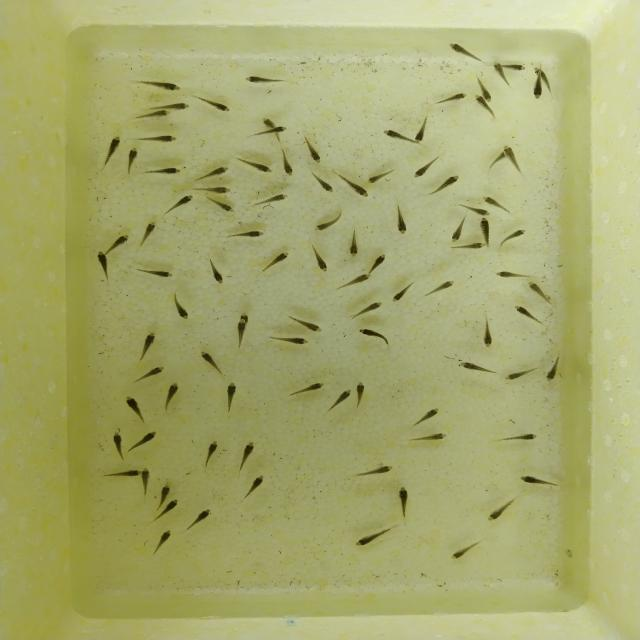fingerling: (178, 506, 212, 535), (483, 498, 513, 525), (126, 431, 161, 454), (248, 190, 287, 210), (386, 279, 416, 304), (392, 204, 414, 238), (340, 175, 371, 199), (351, 529, 388, 549), (205, 253, 227, 286), (162, 195, 196, 216), (446, 541, 478, 563), (496, 428, 540, 444), (329, 387, 355, 414), (198, 350, 222, 378), (395, 484, 416, 516), (411, 157, 440, 180), (308, 212, 338, 234), (123, 398, 148, 424), (425, 276, 461, 294), (237, 158, 275, 175), (446, 39, 478, 59), (238, 441, 260, 470), (520, 473, 559, 489), (363, 253, 390, 276), (310, 243, 330, 274), (523, 281, 551, 303), (134, 364, 168, 382), (352, 300, 384, 319), (341, 271, 373, 290), (170, 294, 190, 324), (242, 475, 265, 501), (94, 250, 113, 281), (136, 133, 181, 146), (131, 266, 176, 279), (544, 355, 564, 384), (504, 140, 524, 169), (196, 97, 230, 114), (358, 328, 392, 345), (434, 172, 464, 191), (193, 166, 228, 182), (263, 250, 292, 269), (153, 530, 174, 556), (163, 384, 180, 416), (236, 318, 254, 348), (103, 134, 122, 162), (158, 497, 182, 519), (456, 359, 489, 375), (107, 233, 131, 255), (512, 303, 539, 322), (478, 216, 495, 246), (414, 407, 442, 425), (102, 468, 144, 480), (410, 431, 447, 444), (304, 143, 324, 167), (224, 228, 264, 240), (246, 74, 285, 86), (146, 165, 182, 178), (432, 91, 465, 105), (447, 219, 468, 241), (138, 80, 184, 90), (140, 221, 158, 246), (202, 442, 220, 467), (380, 127, 410, 142), (140, 330, 156, 358), (263, 117, 279, 145), (412, 118, 428, 146), (504, 227, 532, 243), (268, 336, 312, 346), (188, 184, 232, 194), (205, 198, 234, 213), (480, 194, 513, 207), (354, 379, 367, 412), (290, 320, 320, 334), (110, 428, 124, 458), (297, 381, 326, 395), (347, 233, 361, 262), (501, 369, 534, 381), (481, 320, 495, 348), (462, 204, 490, 218), (221, 381, 236, 407), (363, 464, 399, 474), (131, 109, 171, 118), (534, 67, 553, 85), (126, 146, 137, 177), (492, 269, 529, 278), (316, 178, 335, 195), (257, 126, 290, 135), (280, 158, 294, 179), (368, 173, 388, 187), (142, 467, 152, 495), (499, 62, 526, 72), (494, 62, 505, 86), (158, 484, 171, 504), (148, 104, 190, 110), (454, 242, 485, 250), (532, 76, 542, 98), (476, 94, 487, 110), (481, 87, 492, 103)
